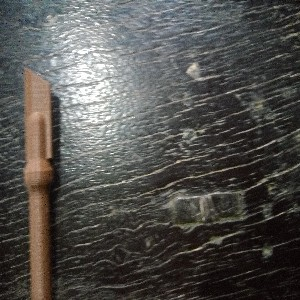cutter: (22, 63, 53, 300)
